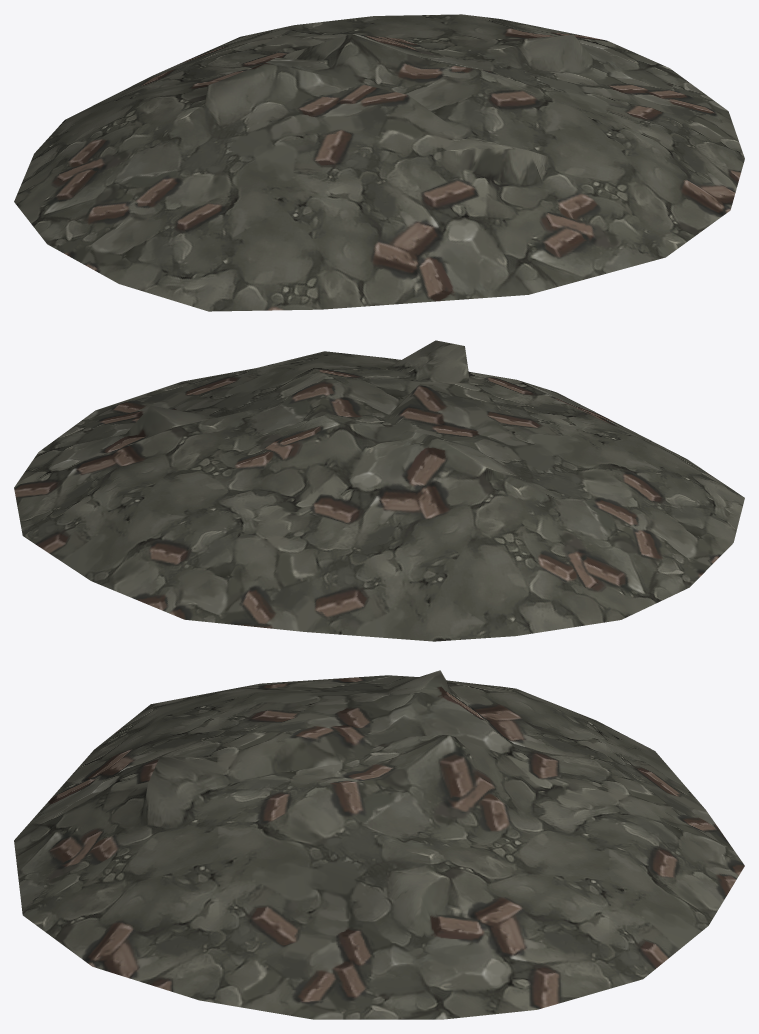
The model's file is break_ground_01.FBX.
3 renders of one model, top to bottom at view 1: azimuth 30°, elevation 25°; view 2: azimuth 150°, elevation 25°; view 3: azimuth 270°, elevation 25°, orthographic. The views are drawn at different scales.
Visible parts, largest first — view 1: Plane103; view 2: Plane103; view 3: Plane103.
Boxes of the visible parts, x1,y1,x2,y2 form: Plane103: [14, 14, 744, 311]; Plane103: [14, 340, 744, 641]; Plane103: [14, 670, 744, 1019].
Size of the model in its own units: 920 by 148 by 829.
Materials: 1 (1 with a texture image).
